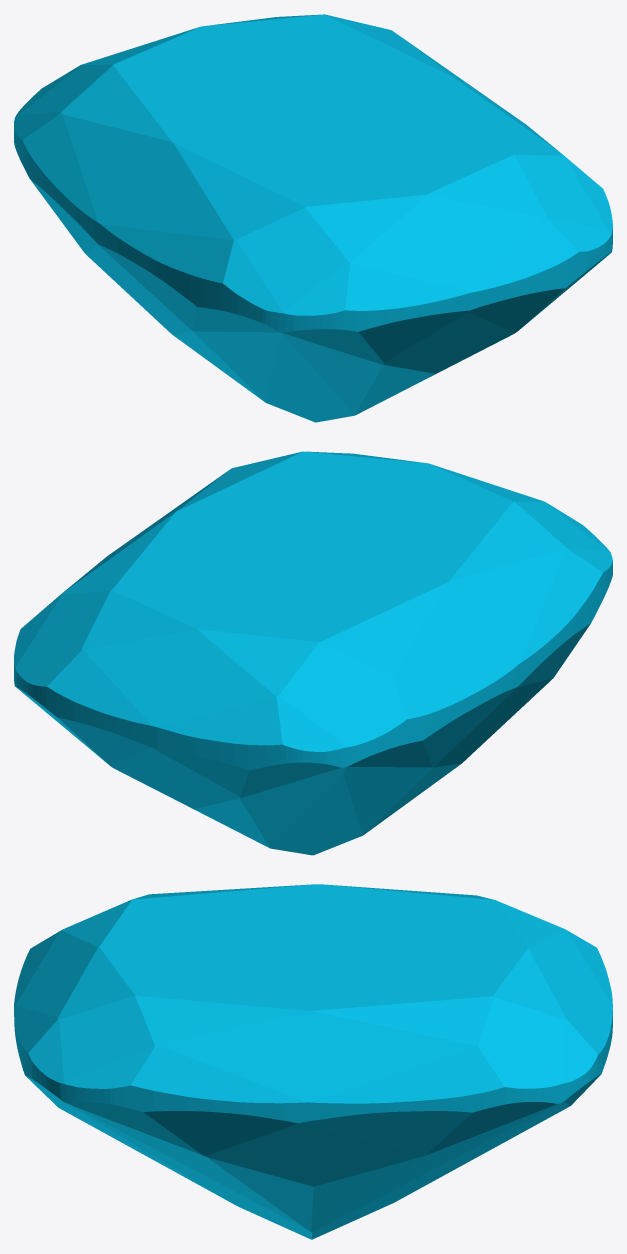
The model's file is Head_Hidden Halo_Elongated Cushion_1.0ct_Diamond.glb.
The picture shows the model from 3 angles, top to bottom: view 1: azimuth 30°, elevation 25°; view 2: azimuth 150°, elevation 25°; view 3: azimuth 270°, elevation 25°; orthographic projection. The views are drawn at different scales.
Size of the model in its own units: 0.00529 by 0.00374 by 0.00696.
